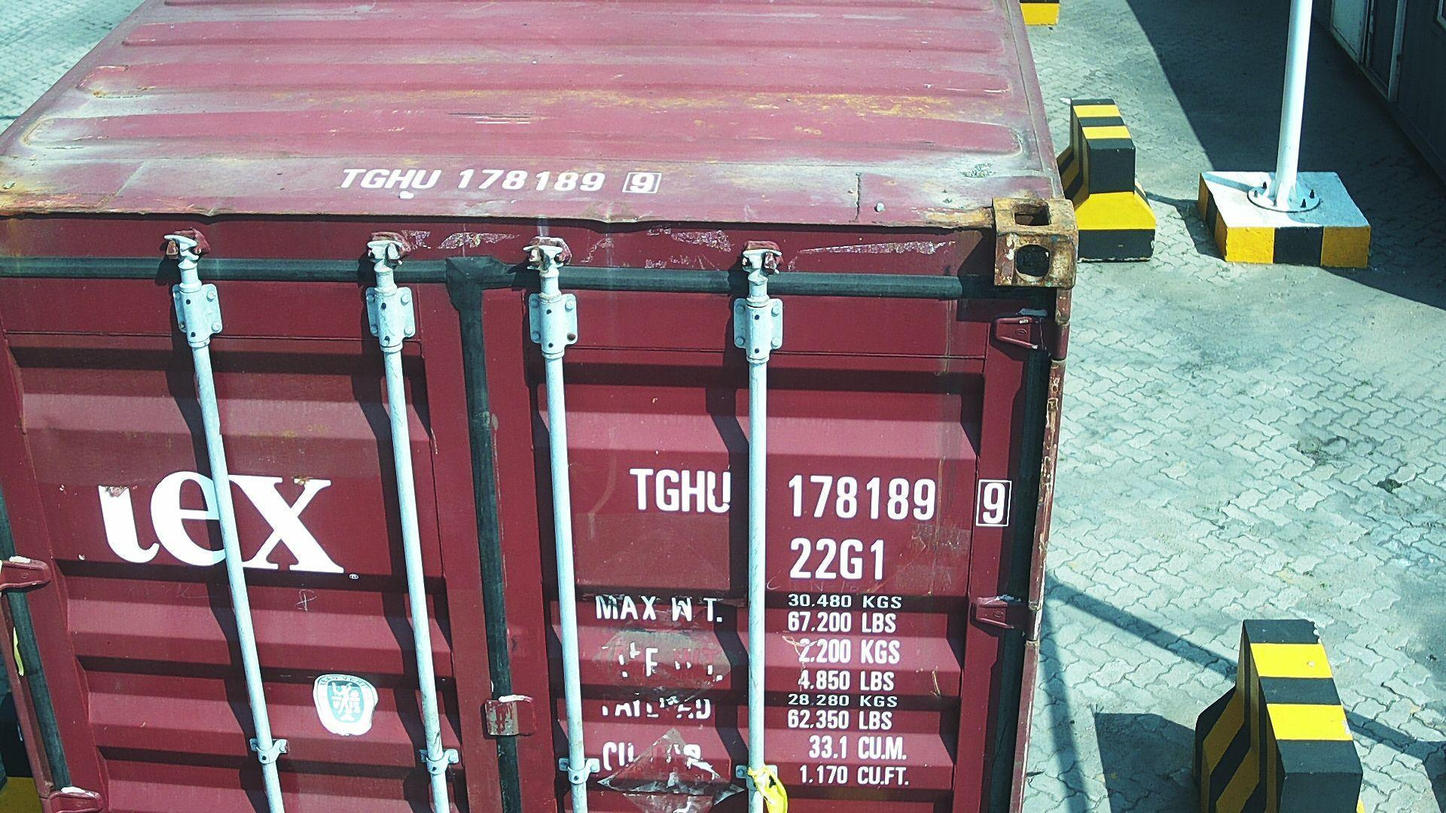container-numbers: (623, 466, 1014, 531), (325, 164, 670, 198), (784, 534, 890, 584)
